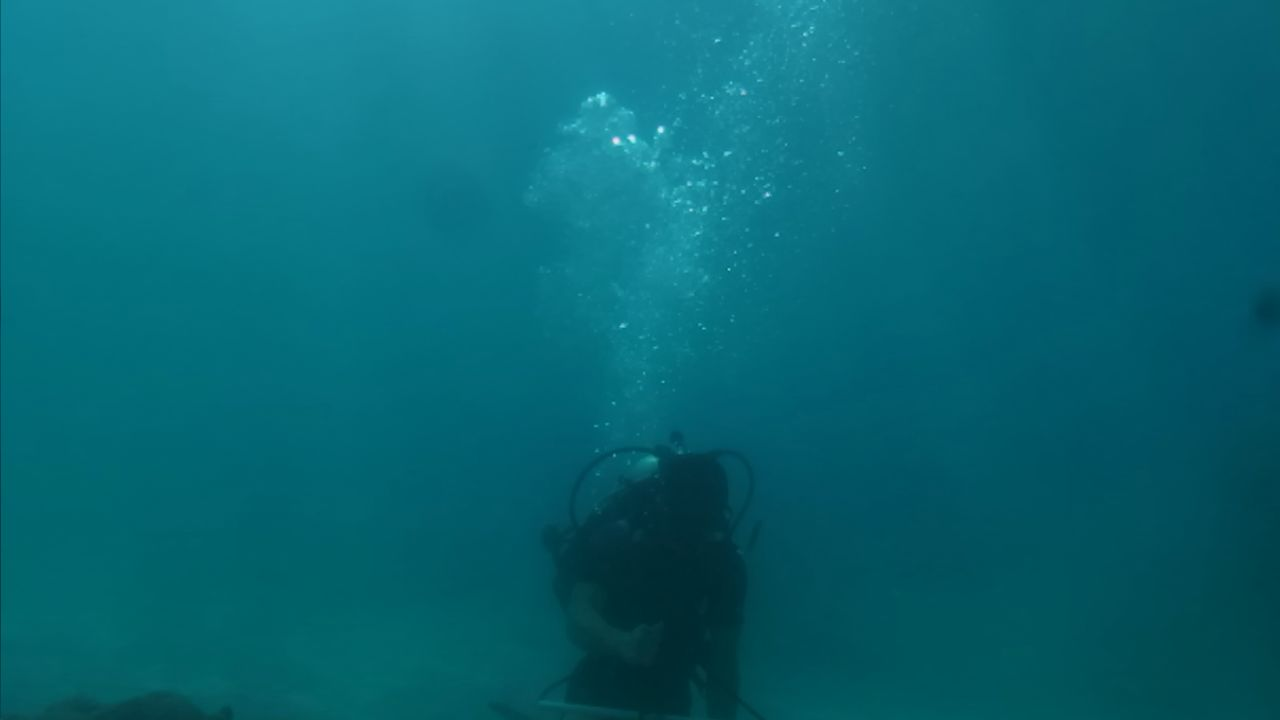Hand: (634, 612, 672, 678)
